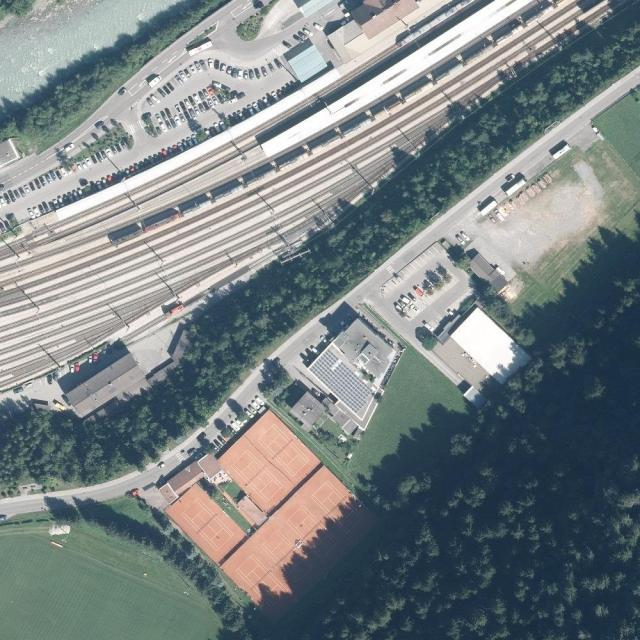building: (305, 315, 415, 425), (446, 304, 533, 388), (449, 306, 531, 388), (359, 0, 420, 41), (327, 18, 373, 64), (466, 253, 509, 295), (286, 43, 328, 84), (287, 391, 327, 432), (166, 459, 207, 497), (348, 0, 400, 28), (195, 451, 231, 490), (158, 482, 179, 505)
dryland: (476, 157, 619, 281), (442, 300, 531, 388)
greenland: (34, 158, 440, 516), (71, 468, 280, 640), (326, 347, 475, 503), (344, 346, 480, 506), (500, 230, 604, 320), (461, 271, 541, 351), (0, 0, 35, 20)
